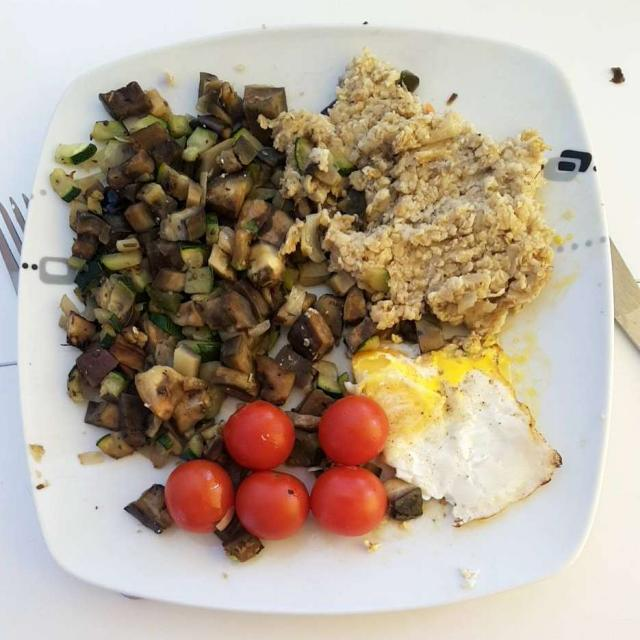egg-scrambled-prepared: (352, 337, 565, 529)
flakes-oat: (278, 51, 560, 341)
tomato-raw: (167, 395, 385, 534)
